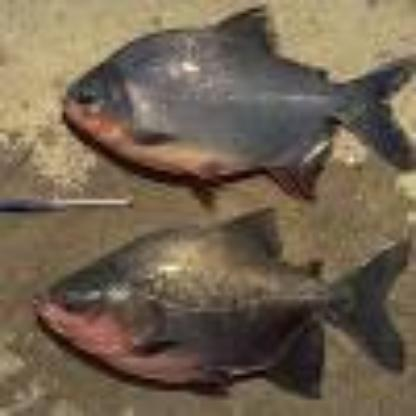ikan-pacu: (33, 208, 415, 390), (58, 9, 412, 192)
